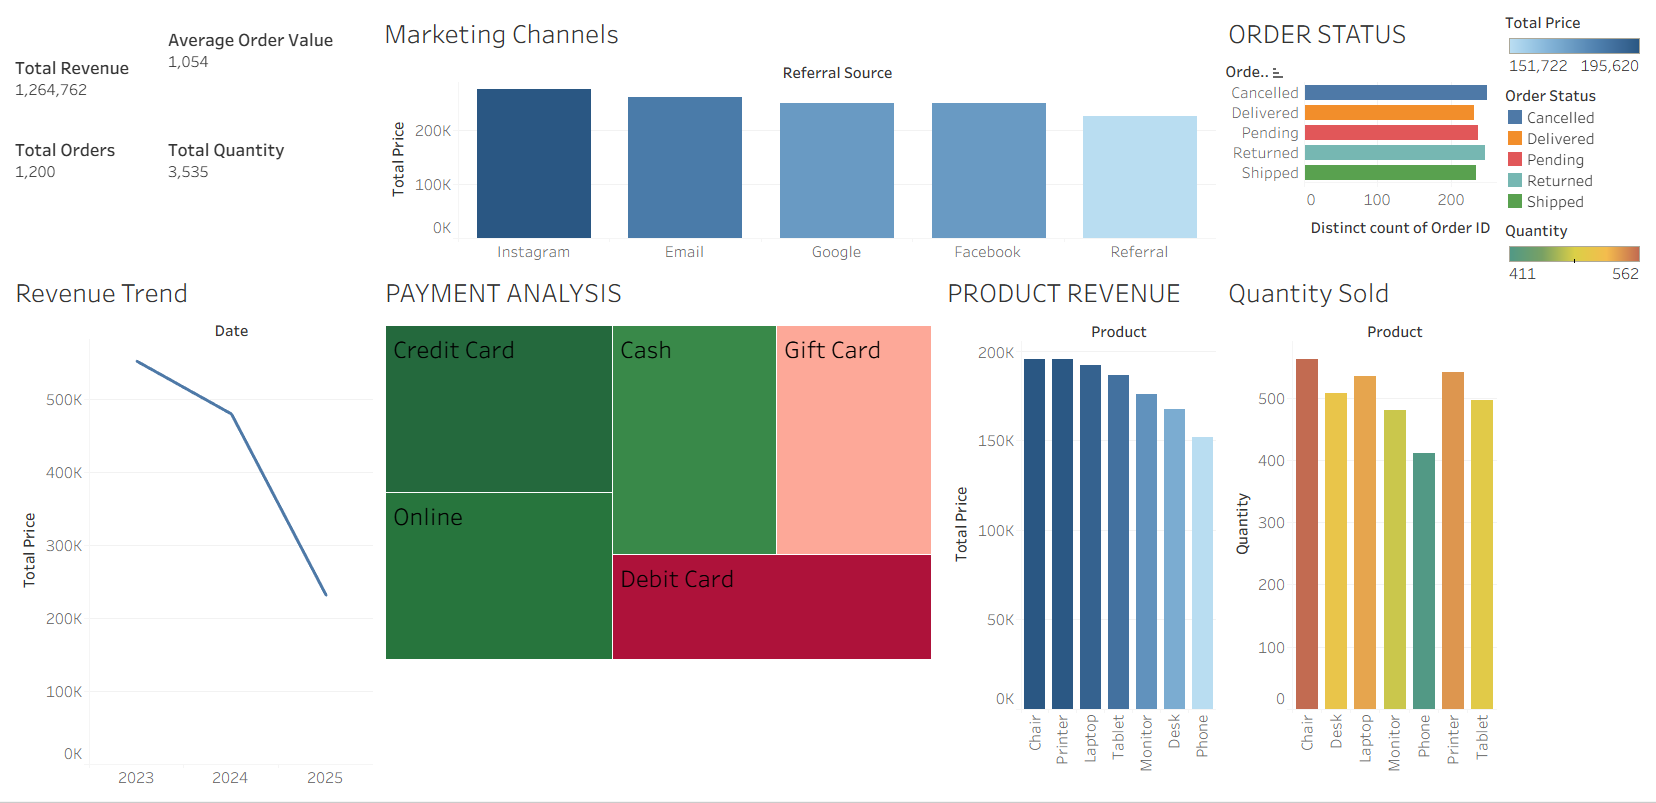

This screenshot's page, from the dashboard's own definition file:
{"tool":"tableau","page":{"name":"Dashboard 1","canvas":[1000,1000],"units":"permille","ordinal":0},"visuals":[{"type":"worksheet","title":"Sheet 7","mark":"Automatic","box":[4.8,10,92.5,137.3]},{"type":"worksheet","title":"Sheet 9","mark":"Automatic","box":[97.4,10,130.3,136.7]},{"type":"worksheet","title":"Sheet 3","mark":"Automatic","rows":["TotalPrice"],"cols":["ReferralSource"],"box":[227.6,10,509.2,323.3]},{"type":"worksheet","title":"Sheet 5","mark":"Automatic","rows":["OrderStatus"],"cols":["OrderID"],"box":[736.8,10,169.6,323.3]},{"type":"legend","title":"Sheet 2","param":"[federated.02y8p9216t1kja1f2vzal1vfes2w].[sum:TotalPrice:qk]","box":[906.5,10,88.7,91.1]},{"type":"legend","title":"Sheet 5","param":"[federated.02y8p9216t1kja1f2vzal1vfes2w].[none:OrderStatus:nk]","box":[906.5,101.1,88.7,168.5]},{"type":"worksheet","title":"Sheet 10","mark":"Automatic","box":[97.4,146.7,130.3,186.6]},{"type":"worksheet","title":"Sheet 8","mark":"Automatic","box":[4.8,147.3,92.5,186]},{"type":"legend","title":"Sheet 6","param":"[federated.02y8p9216t1kja1f2vzal1vfes2w].[sum:Quantity:qk]","box":[906.5,269.7,88.7,91.1]},{"type":"worksheet","title":"Sheet 1","mark":"Automatic","rows":["TotalPrice"],"cols":["Date"],"box":[4.8,333.3,223.1,656.7]},{"type":"worksheet","title":"Sheet 4","mark":"Automatic","box":[227.9,333.3,339.3,656.7]},{"type":"worksheet","title":"Sheet 2","mark":"Automatic","rows":["TotalPrice"],"cols":["Product"],"box":[567.2,333.3,169.7,656.7]},{"type":"worksheet","title":"Sheet 6","mark":"Automatic","rows":["Quantity"],"cols":["Product"],"box":[736.8,333.3,169.6,656.7]}]}

Visuals, with their boxes on the dashboard's canvas, which has no fixed pixel size, in thousandths of its width and height (x1, y1, x2, y2). These are canvas units, not pixel positions in the 1656x803 screenshot, which may show the page scaled, cropped or inside an application window:
"Sheet 7" worksheet: l=5, t=10, r=97, b=147
"Sheet 9" worksheet: l=97, t=10, r=228, b=147
"Sheet 3" worksheet: l=228, t=10, r=737, b=333
"Sheet 5" worksheet: l=737, t=10, r=906, b=333
"Sheet 2" legend: l=906, t=10, r=995, b=101
"Sheet 5" legend: l=906, t=101, r=995, b=270
"Sheet 10" worksheet: l=97, t=147, r=228, b=333
"Sheet 8" worksheet: l=5, t=147, r=97, b=333
"Sheet 6" legend: l=906, t=270, r=995, b=361
"Sheet 1" worksheet: l=5, t=333, r=228, b=990
"Sheet 4" worksheet: l=228, t=333, r=567, b=990
"Sheet 2" worksheet: l=567, t=333, r=737, b=990
"Sheet 6" worksheet: l=737, t=333, r=906, b=990
